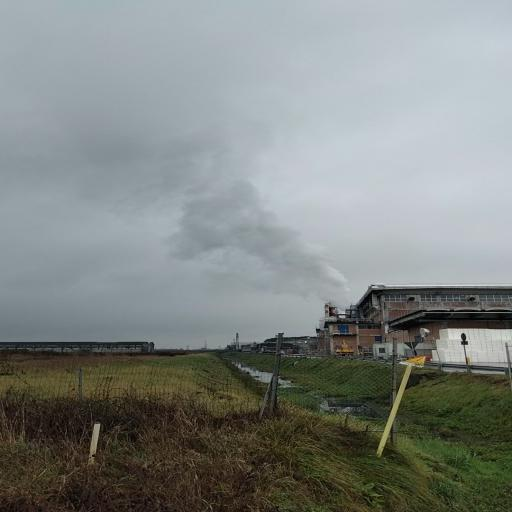leakage: (50, 112, 361, 319)
